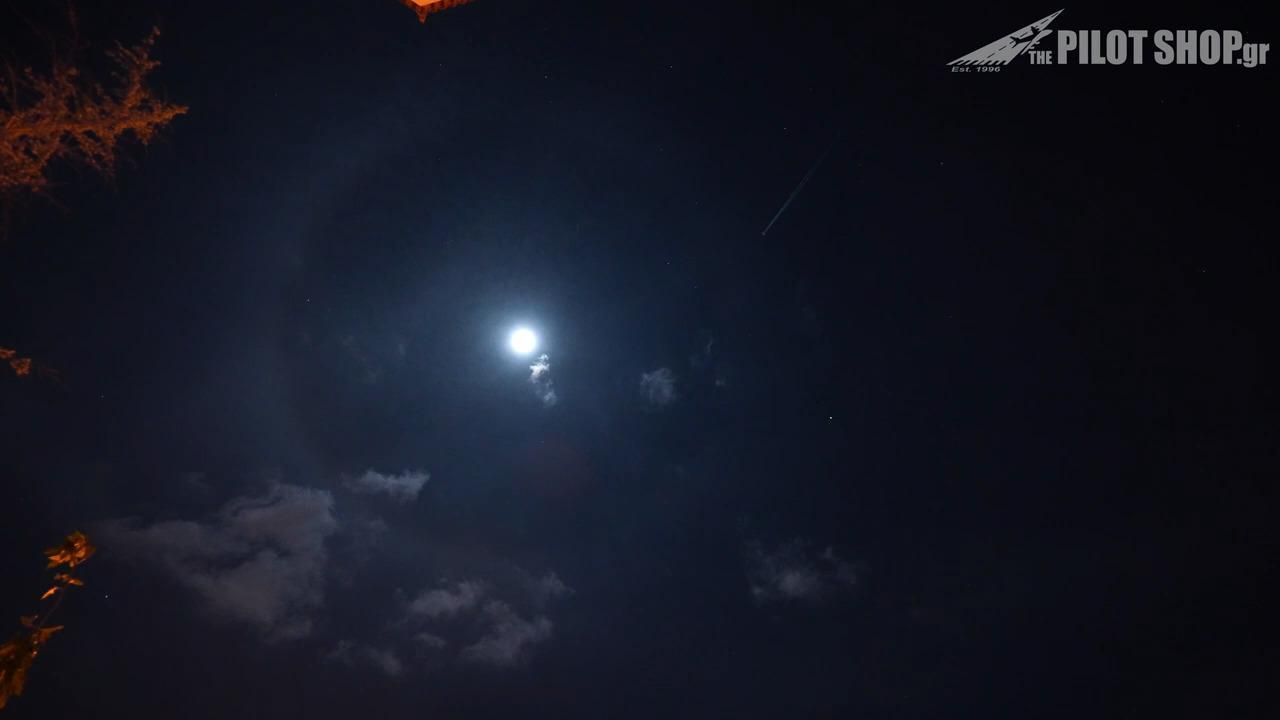Plane: (741, 159, 840, 241)
